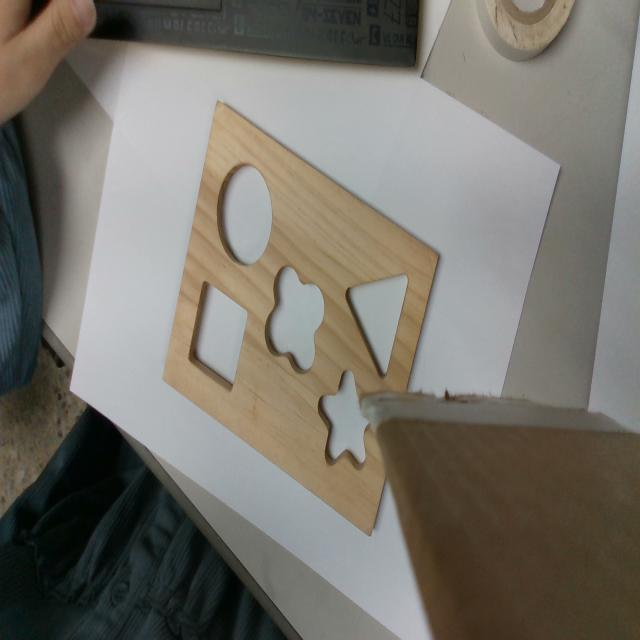circle: (218, 165, 274, 266)
flower: (264, 265, 322, 372)
square: (188, 282, 249, 389)
star: (318, 367, 370, 469)
triangle: (346, 271, 410, 375)
